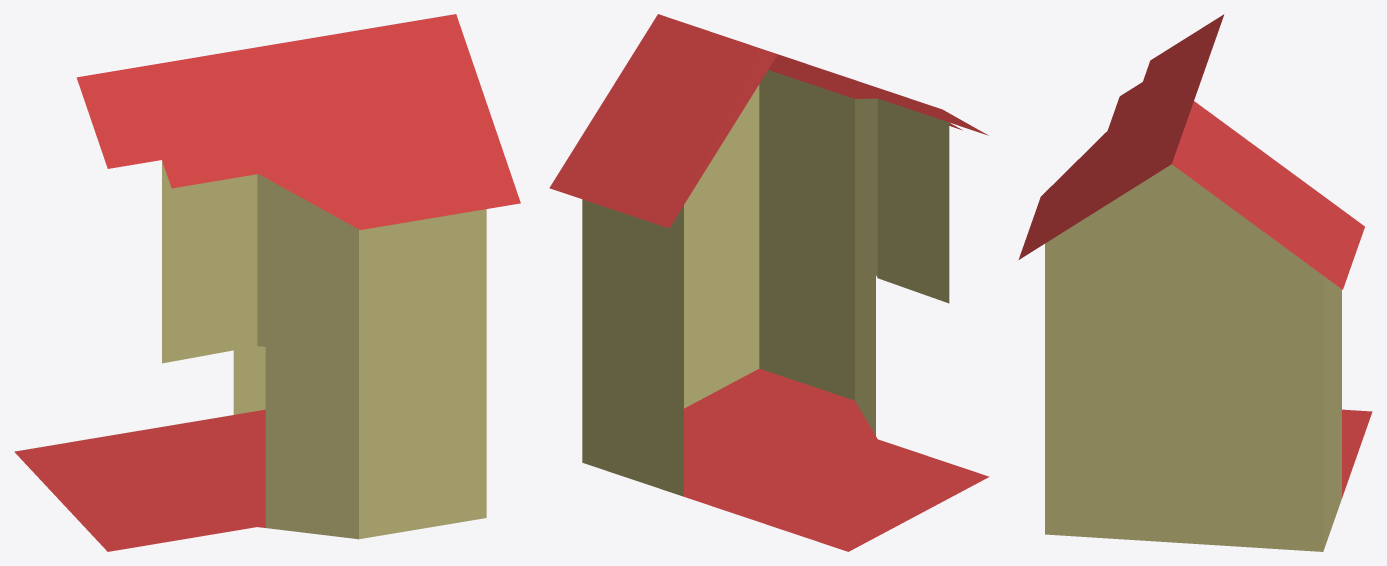
3 renders of one model, left to right at view 1: azimuth 30°, elevation 25°; view 2: azimuth 150°, elevation 25°; view 3: azimuth 270°, elevation 25°, orthographic. The views are drawn at different scales.
Bounding box in the file's own units: 12.59 × 11.38 × 13.76.
